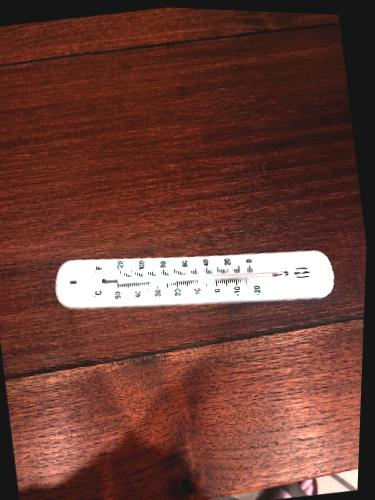thermo: (52, 248, 330, 312)
